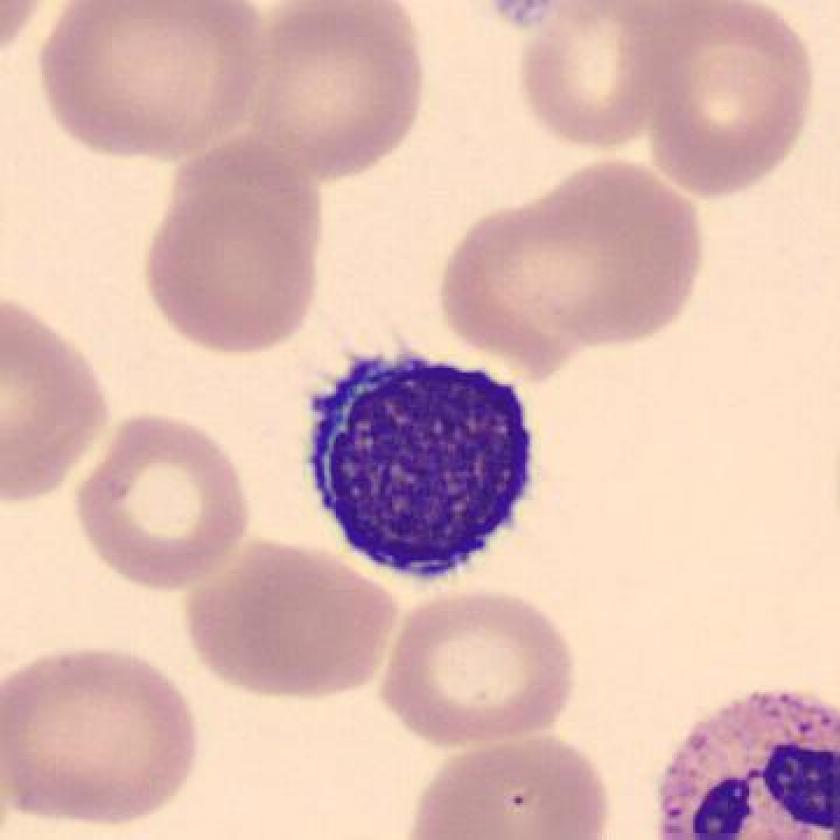lymphocyte: (286, 339, 552, 593)
